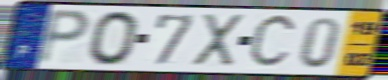0: (297, 16, 341, 70)
7: (151, 13, 197, 66)
C: (245, 11, 300, 72)
O: (86, 9, 142, 67)
P: (34, 7, 94, 67)
X: (191, 12, 246, 68)
